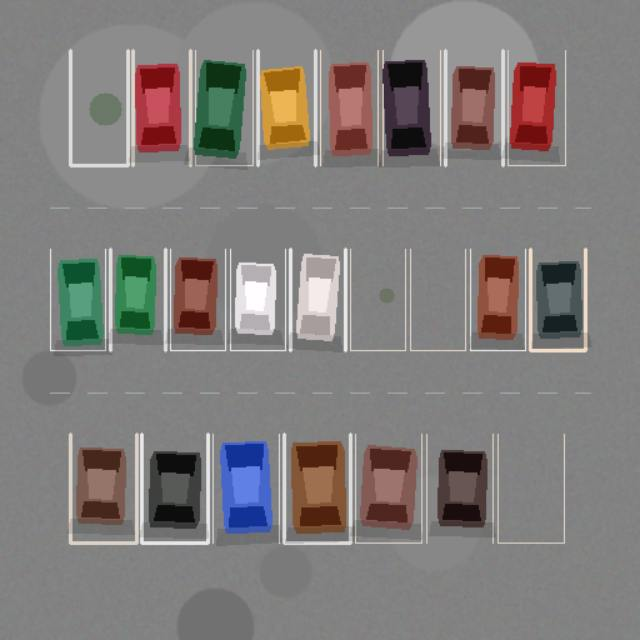space-empty: (498, 434, 564, 542), (70, 50, 128, 165), (350, 249, 405, 350), (410, 249, 465, 350)
space-occupied: (141, 434, 208, 542), (212, 434, 279, 542), (70, 434, 136, 542), (284, 434, 350, 542), (355, 434, 421, 542), (426, 434, 492, 542), (132, 50, 190, 165), (320, 50, 378, 165), (382, 50, 440, 165), (195, 50, 252, 165), (258, 50, 315, 165), (445, 50, 502, 165), (508, 50, 565, 165), (50, 249, 105, 350), (110, 249, 165, 350), (170, 249, 225, 350), (230, 249, 285, 350), (290, 249, 345, 350), (470, 249, 525, 350), (530, 249, 585, 350)
